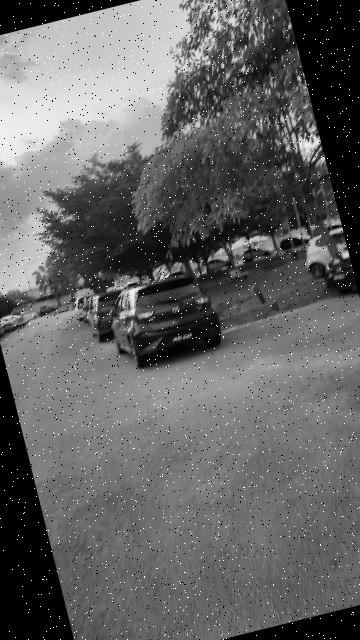License_Plate: (170, 331, 202, 347)
car: (99, 267, 228, 375)
